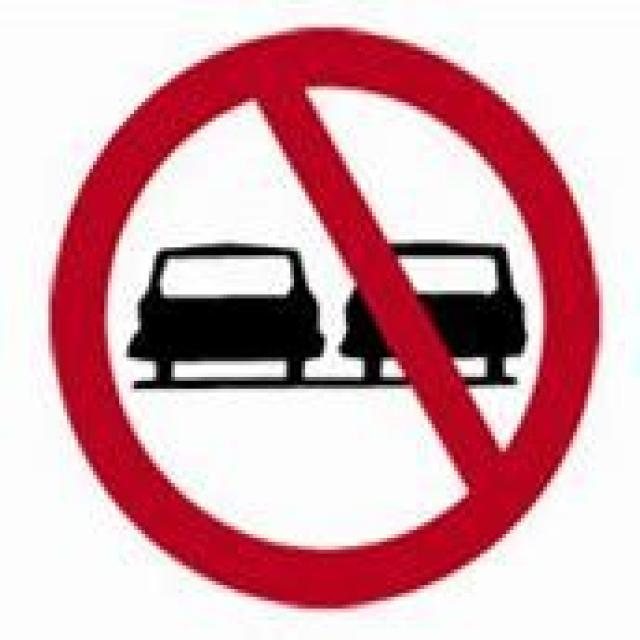overtaking prohibited: (40, 21, 606, 618)
